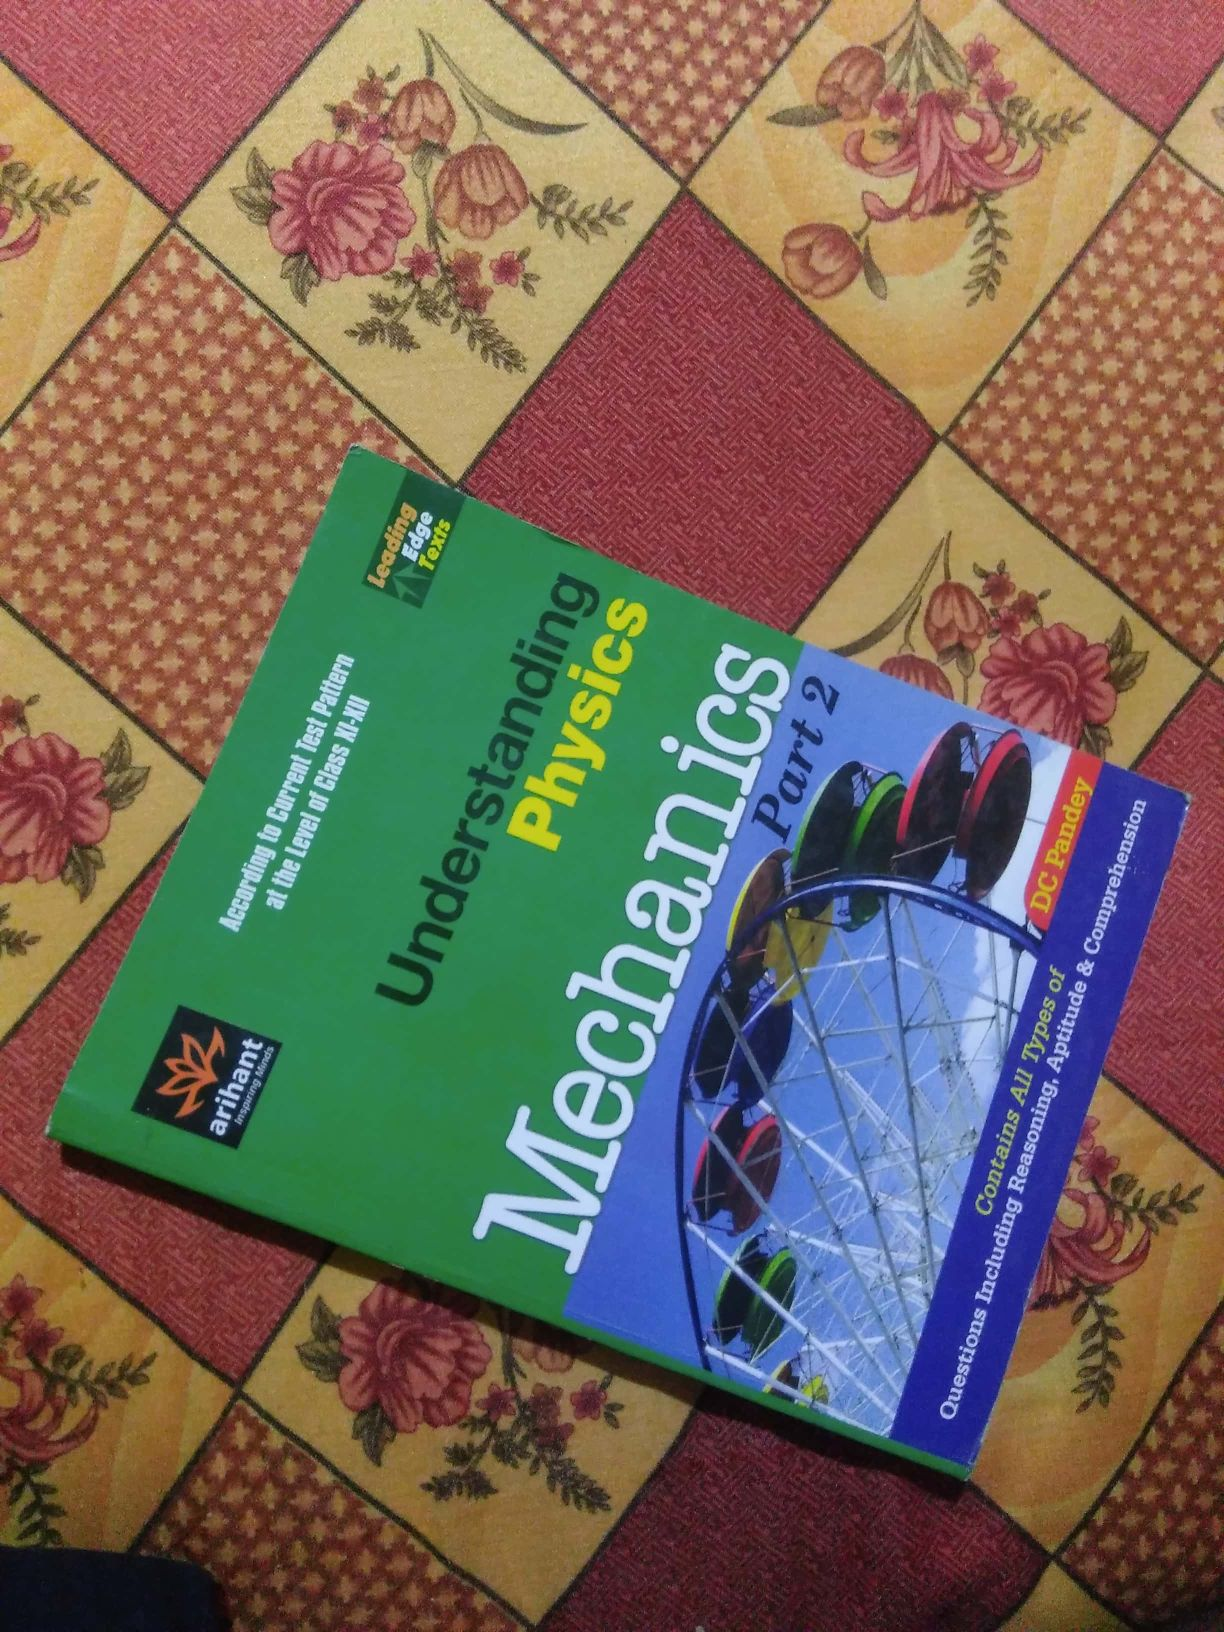mechanics: (98, 451, 1194, 1450)
